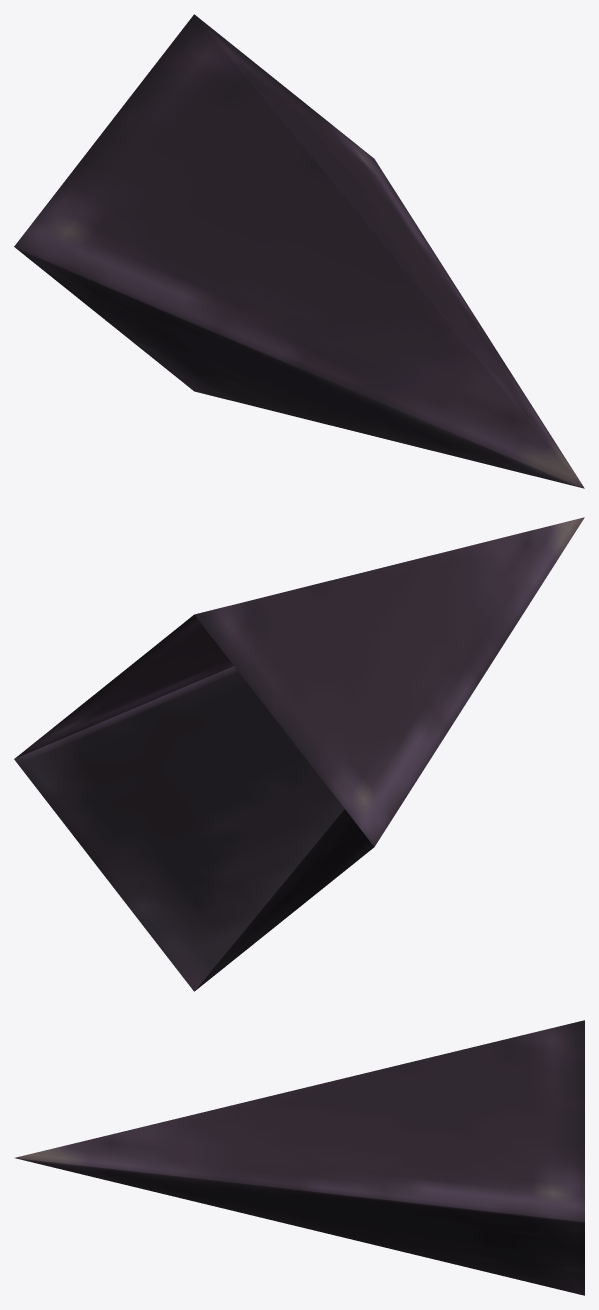
Rendered from sn_jixie_jiguanci_001.FBX.
3 renders of one model, top to bottom at view 1: azimuth 30°, elevation 25°; view 2: azimuth 150°, elevation 25°; view 3: azimuth 270°, elevation 25°, orthographic. The views are drawn at different scales.
Visible parts, largest first — view 1: sn_jixie_jiguanci_001; view 2: sn_jixie_jiguanci_001; view 3: sn_jixie_jiguanci_001.
Part boxes in pixels (bbox=[...]): sn_jixie_jiguanci_001: bbox=[14, 14, 584, 488]; sn_jixie_jiguanci_001: bbox=[14, 517, 584, 991]; sn_jixie_jiguanci_001: bbox=[15, 1020, 584, 1295].
Bounding box in the file's own units: 1.15 × 2.15 × 1.15.
